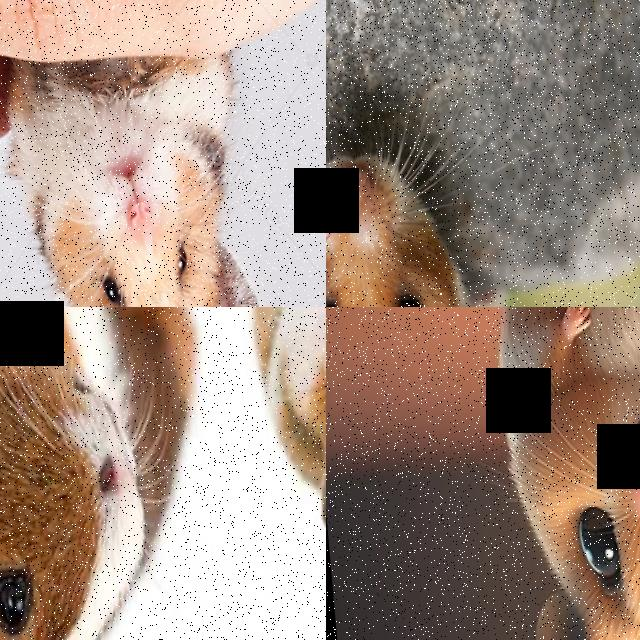hamster: (0, 53, 284, 307), (483, 307, 640, 640), (326, 133, 511, 307), (231, 307, 326, 540)
